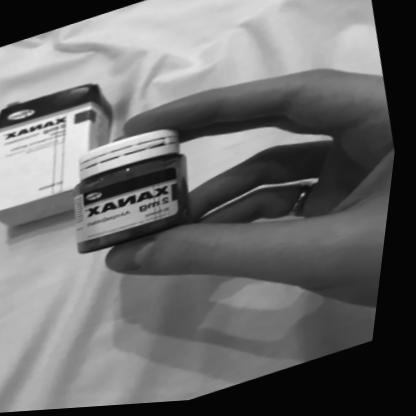jar: (50, 123, 204, 254)
